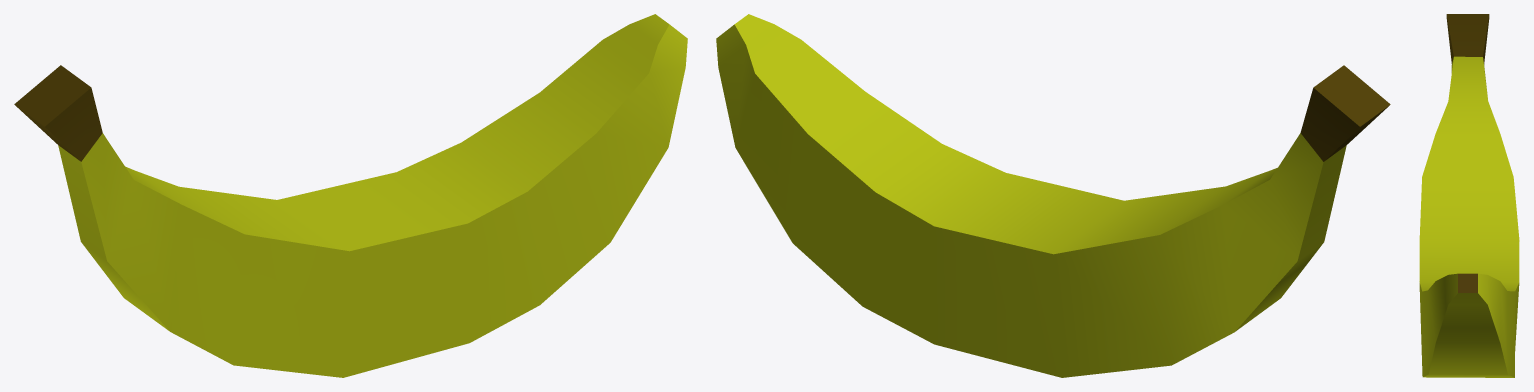
File: Banana.fbx
The picture shows the model from 3 angles, left to right: view 1: azimuth 30°, elevation 25°; view 2: azimuth 150°, elevation 25°; view 3: azimuth 270°, elevation 25°; orthographic projection. The views are drawn at different scales.
Visible parts, largest first — view 1: Banana; view 2: Banana; view 3: Banana.
Part boxes in pixels (x1,y1,x2,y2): Banana: (14, 14, 687, 377); Banana: (716, 14, 1390, 377); Banana: (1419, 14, 1519, 377).
Size of the model in its own units: 24.1 by 11.82 by 4.59.
